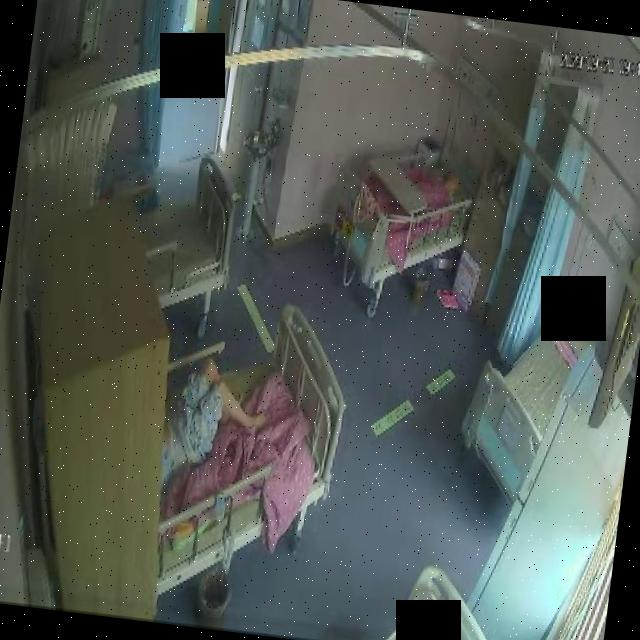bed: (144, 298, 350, 582), (453, 278, 596, 484), (322, 119, 482, 286), (130, 146, 244, 312)
lie: (154, 352, 278, 490)
patient: (153, 349, 277, 491), (429, 161, 463, 202)
